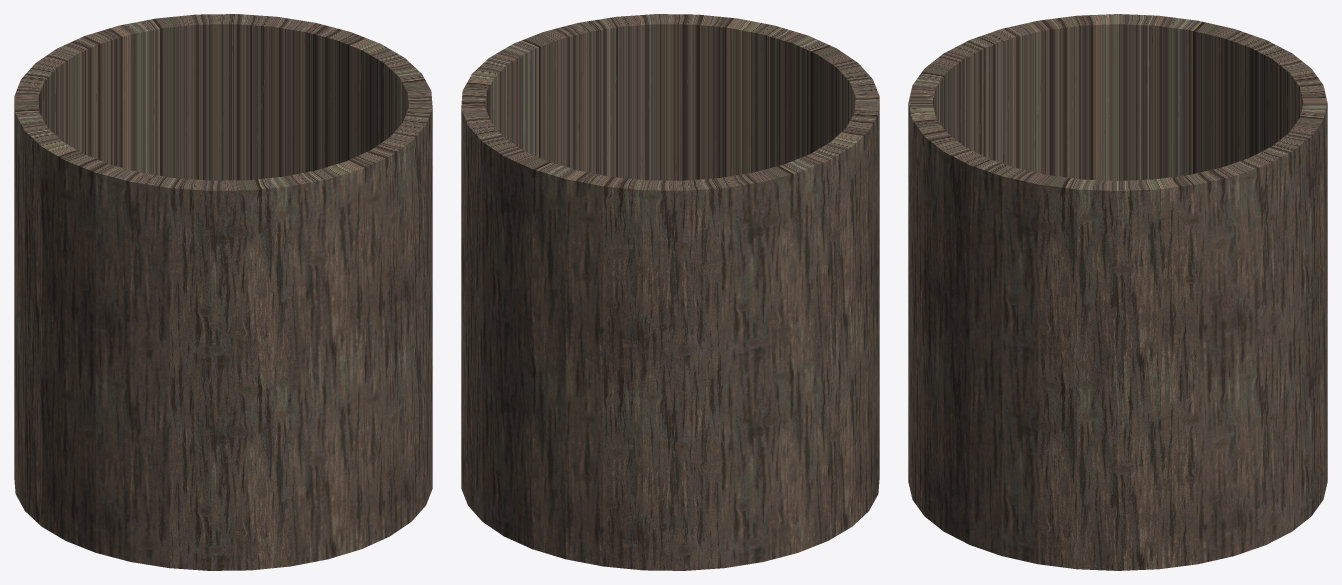
Rendered from Bucket.fbx.
The picture shows the model from 3 angles, left to right: view 1: azimuth 30°, elevation 25°; view 2: azimuth 150°, elevation 25°; view 3: azimuth 270°, elevation 25°; orthographic projection.
Visible parts, largest first — view 1: Cylinder; view 2: Cylinder; view 3: Cylinder.
Part boxes in pixels (box(x1,y1,x2,y2)): Cylinder: box(14, 14, 432, 570); Cylinder: box(461, 14, 879, 570); Cylinder: box(908, 14, 1327, 570).
Size of the model in its own units: 944 by 944 by 944.
